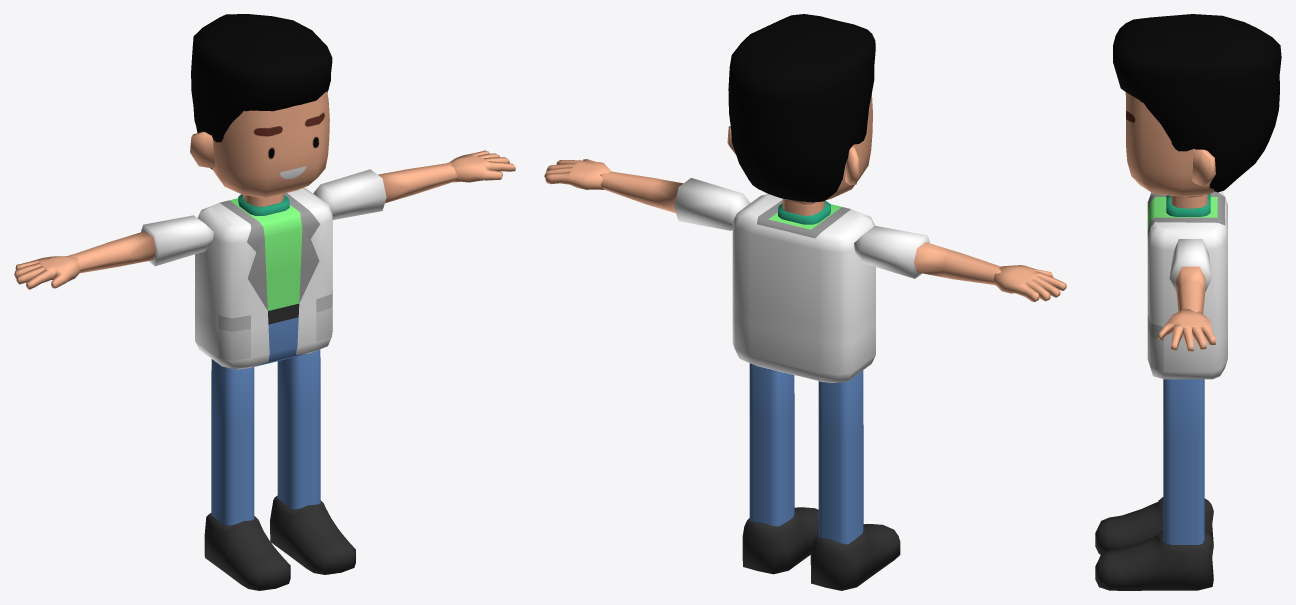
Rendered from NPC_White02_BlackHair06.gltf.
3 views of the same model, side by side, from view 1: azimuth 30°, elevation 25°; view 2: azimuth 150°, elevation 25°; view 3: azimuth 270°, elevation 25° (orthographic). The views are drawn at different scales.
Parts seen in each view (by area): view 1: NPC_Corpo_White2_BlackHair.006; view 2: NPC_Corpo_White2_BlackHair.006; view 3: NPC_Corpo_White2_BlackHair.006.
Boxes of the visible parts, bbox=[...] form: NPC_Corpo_White2_BlackHair.006: bbox=[14, 14, 515, 590]; NPC_Corpo_White2_BlackHair.006: bbox=[544, 14, 1066, 590]; NPC_Corpo_White2_BlackHair.006: bbox=[1095, 14, 1281, 590].
Size of the model in its own units: 2.31 by 2.31 by 0.7282.
1 material, 1 textured.
